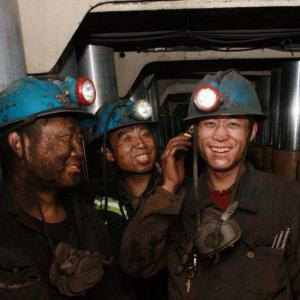blue: (4, 79, 91, 197), (185, 68, 263, 170), (93, 99, 159, 180)
